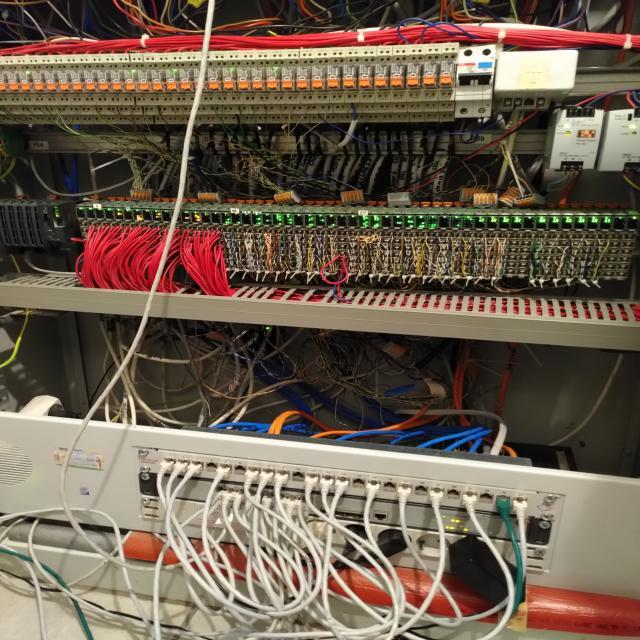FI_Sicherungskombi: (453, 45, 495, 118)
Relais: (407, 61, 423, 88), (389, 63, 405, 89), (280, 66, 296, 92), (356, 65, 373, 89), (204, 68, 221, 92), (342, 65, 358, 90), (178, 69, 196, 91), (250, 67, 265, 92), (149, 70, 166, 92), (222, 67, 238, 90), (267, 66, 281, 92), (374, 65, 389, 89), (295, 66, 309, 91), (423, 61, 437, 86), (236, 67, 251, 90), (326, 66, 341, 89), (164, 69, 179, 92), (312, 66, 326, 90), (96, 70, 111, 92), (440, 61, 453, 86), (6, 71, 21, 92), (31, 71, 46, 92), (43, 71, 58, 92), (19, 71, 33, 93), (124, 69, 137, 92), (110, 69, 123, 92), (83, 70, 97, 91), (69, 70, 83, 91), (137, 70, 150, 91), (56, 70, 69, 91)
